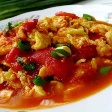fanqiechaojidan: (1, 12, 112, 101)
